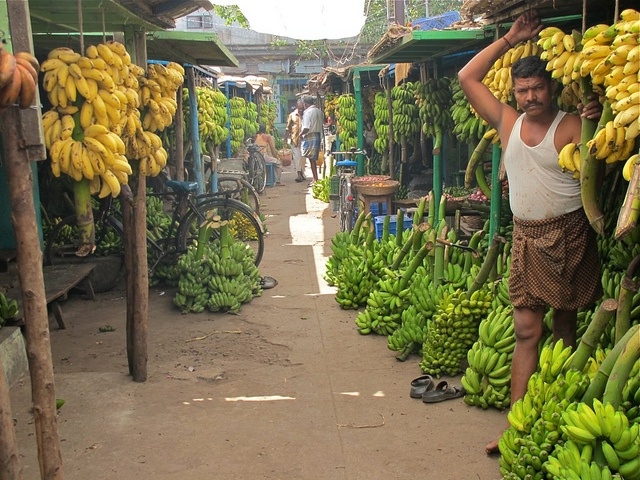non-vehicle: (146, 179, 265, 273), (325, 146, 368, 230), (215, 157, 262, 217), (245, 136, 266, 192)
